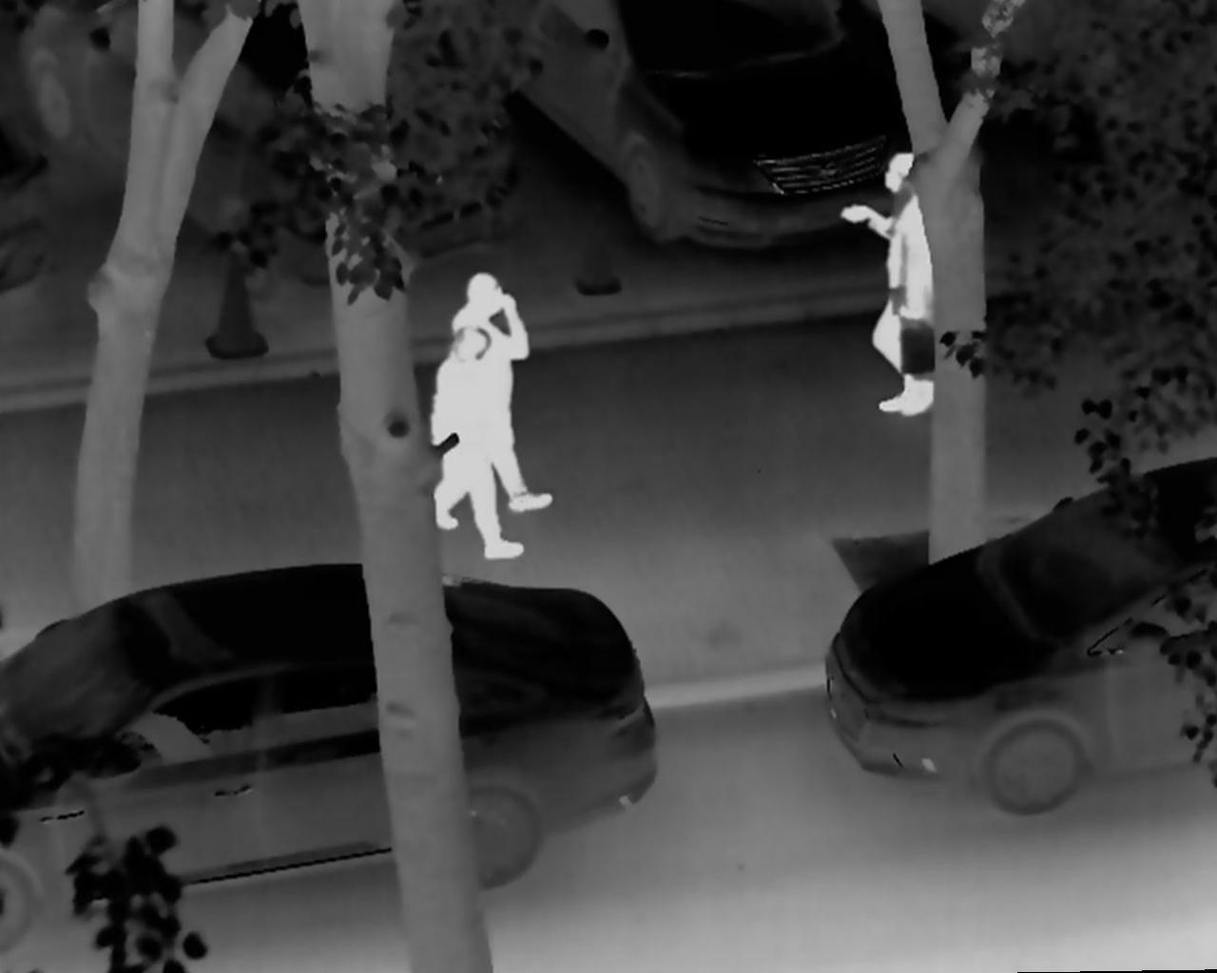person: (436, 266, 559, 518), (837, 147, 950, 418), (428, 326, 527, 561)
